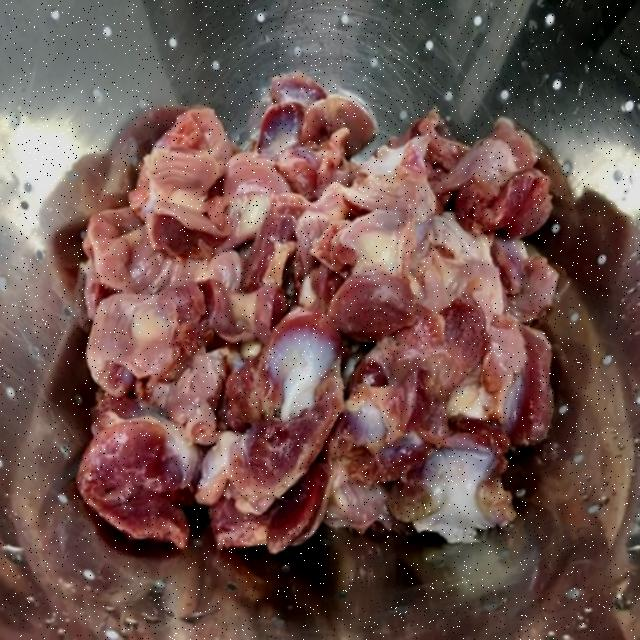Chicken Gizzards: (64, 84, 558, 514)
